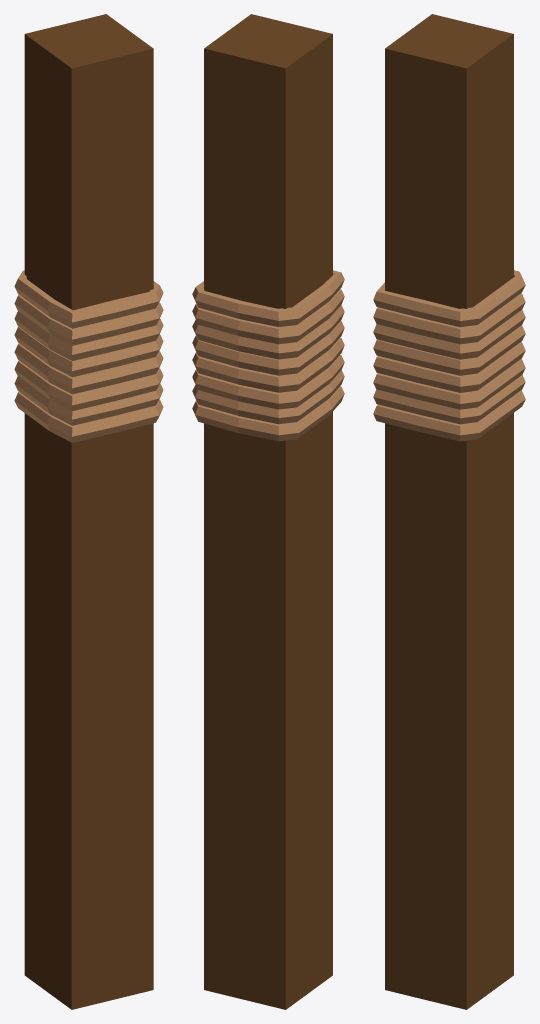
The model's file is HammockWood_01.fbx.
The picture shows the model from 3 angles, left to right: view 1: azimuth 30°, elevation 25°; view 2: azimuth 150°, elevation 25°; view 3: azimuth 330°, elevation 25°; orthographic projection.
Visible parts, largest first — view 1: HammockWood_01; view 2: HammockWood_01; view 3: HammockWood_01.
Part boxes in pixels (x1,y1,x2,y2): HammockWood_01: (14,14,163,1009); HammockWood_01: (192,14,344,1009); HammockWood_01: (373,14,525,1009).
Size of the model in its own units: 23.94 by 204 by 24.28.
